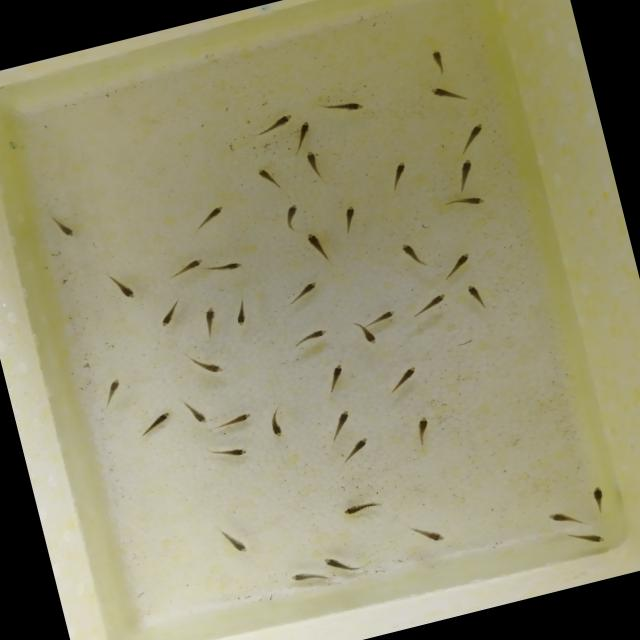fingerling: (175, 342, 230, 384), (212, 516, 254, 564), (296, 226, 338, 272), (403, 514, 452, 553), (434, 186, 492, 218), (314, 355, 356, 399), (130, 406, 176, 446), (156, 252, 210, 286), (202, 434, 255, 468), (382, 358, 427, 398), (243, 105, 297, 138), (314, 91, 368, 124), (148, 294, 190, 336), (334, 492, 388, 524), (406, 286, 454, 322), (318, 405, 359, 447), (424, 77, 472, 112), (390, 236, 434, 274), (281, 276, 327, 312), (559, 522, 610, 554), (223, 286, 260, 330), (200, 253, 256, 282), (102, 266, 140, 308), (540, 501, 588, 534), (320, 544, 366, 578), (260, 400, 294, 446), (186, 200, 232, 234), (91, 374, 132, 412), (436, 247, 478, 284), (296, 146, 334, 186), (334, 435, 378, 469), (44, 206, 81, 246), (404, 412, 440, 452), (461, 276, 494, 318), (177, 393, 213, 431), (274, 198, 308, 238), (380, 158, 416, 194), (207, 408, 256, 434), (289, 322, 334, 350), (194, 302, 226, 341), (250, 162, 286, 196), (448, 154, 481, 191), (456, 119, 492, 152), (334, 200, 365, 238), (584, 480, 612, 518), (361, 304, 403, 328), (289, 117, 319, 149), (284, 564, 320, 590), (426, 42, 452, 78), (358, 326, 385, 352)
